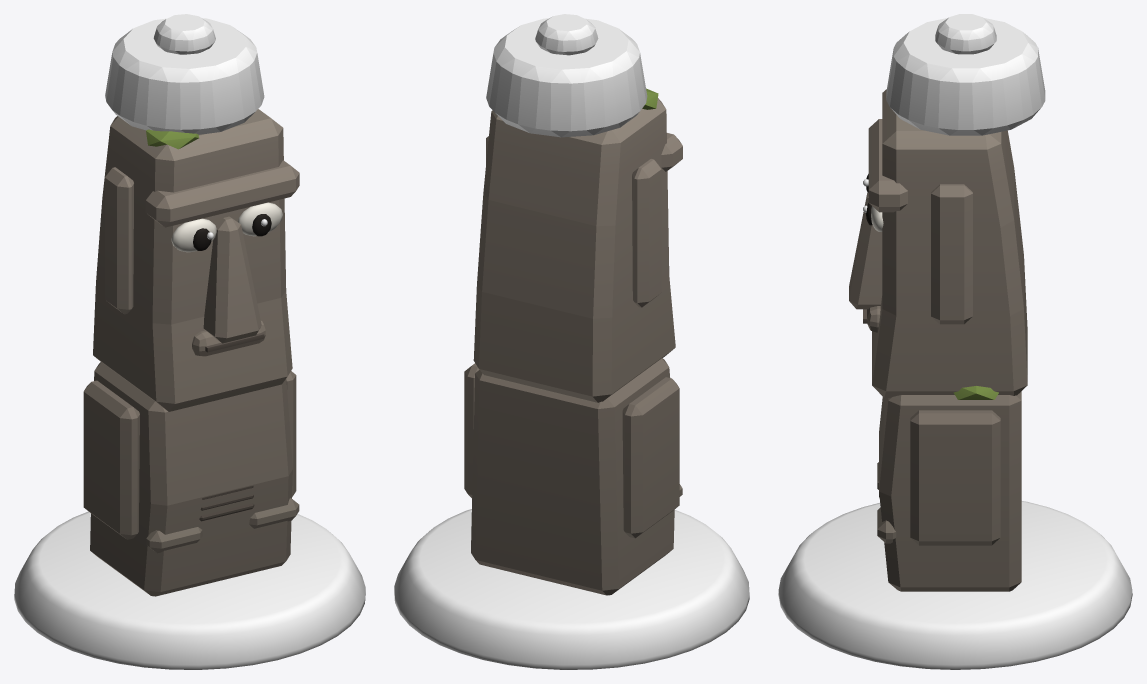
The model's file is moai-D1QYQFK4.glb.
3 renders of one model, left to right at view 1: azimuth 30°, elevation 25°; view 2: azimuth 150°, elevation 25°; view 3: azimuth 270°, elevation 25°, orthographic.
Parts seen in each view (by area): view 1: Body, Tint; view 2: Body, Tint; view 3: Body, Tint.
Boxes of the visible parts, left/top/right/bottom form: Body: left=83, top=109, right=299, bottom=596; Tint: left=14, top=14, right=365, bottom=669; Body: left=464, top=88, right=682, bottom=595; Tint: left=394, top=14, right=749, bottom=669; Body: left=849, top=89, right=1027, bottom=591; Tint: left=778, top=14, right=1132, bottom=669.
Bounding box in the file's own units: 1.02 × 1.82 × 1.02.
2 materials, 2 textured.
